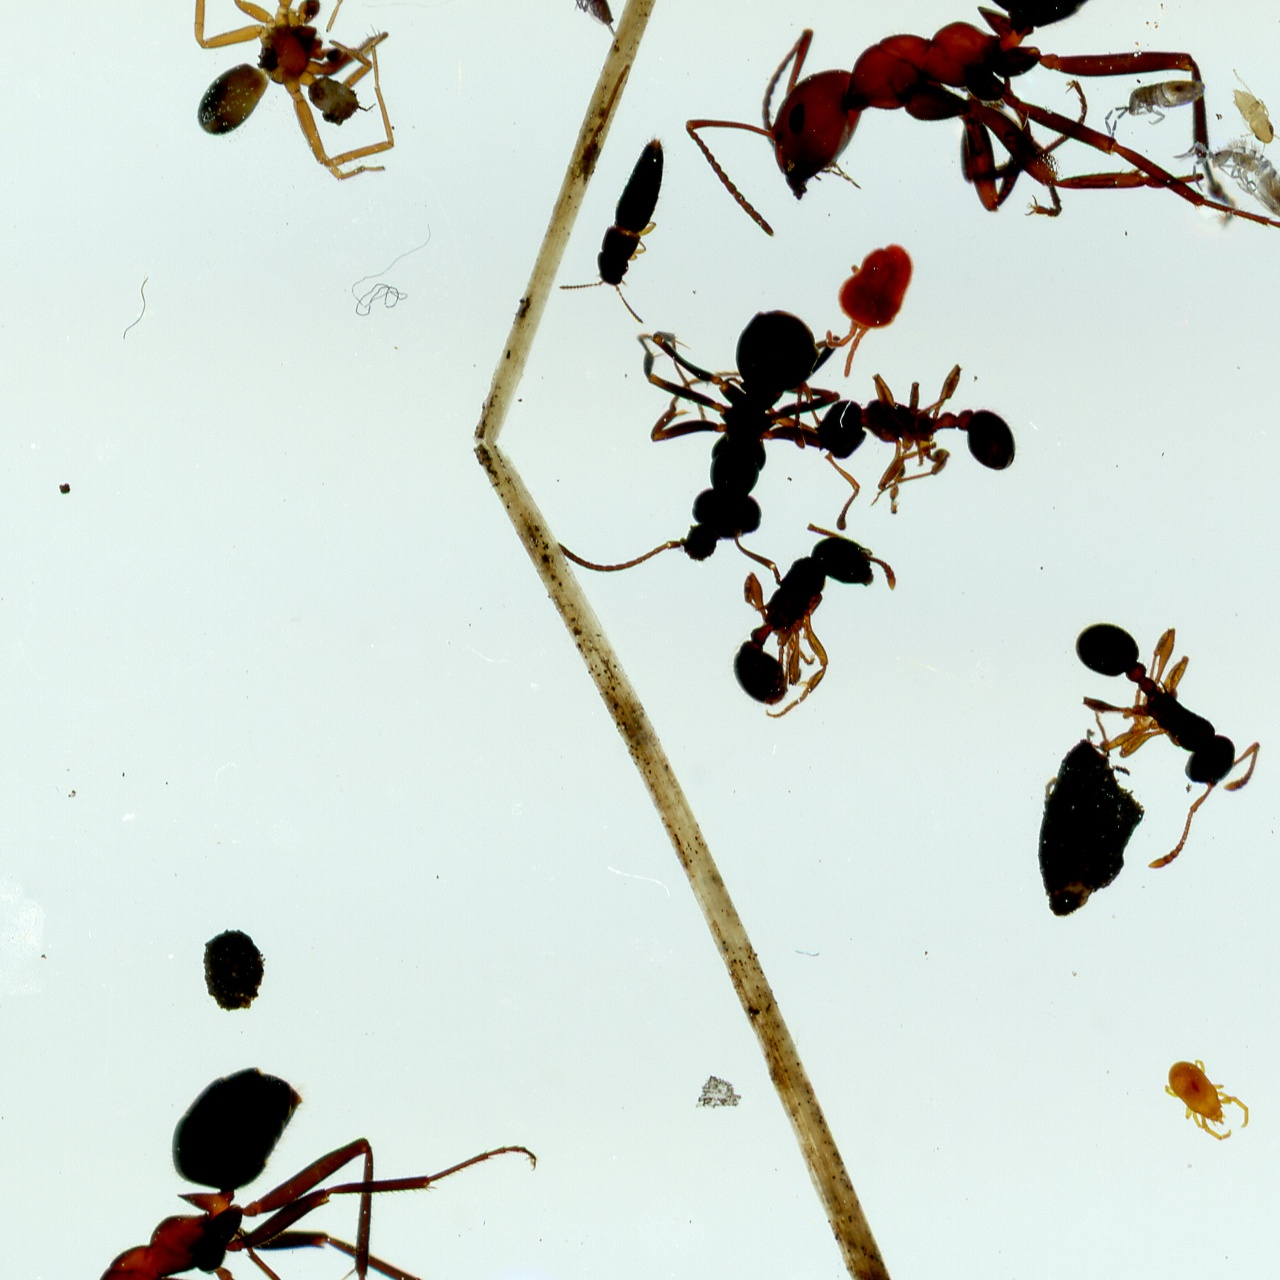arthropod: (670, 0, 1280, 512), (24, 1053, 573, 1280), (546, 262, 866, 625), (997, 572, 1280, 888), (667, 488, 919, 755), (795, 359, 1024, 533), (183, 0, 397, 184), (549, 107, 695, 333), (814, 226, 928, 392), (1148, 1040, 1262, 1159), (1170, 135, 1280, 220), (1209, 52, 1280, 176), (1103, 75, 1207, 141), (539, 0, 619, 48)
